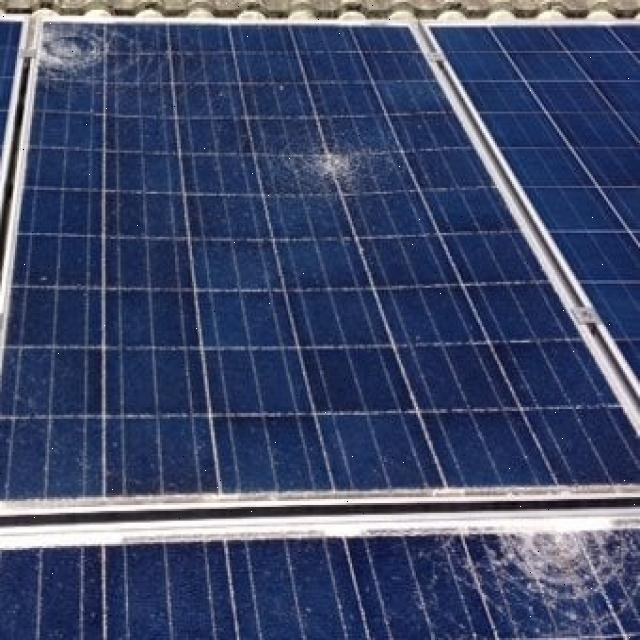Anomaly Solar Panel: (2, 16, 640, 501), (0, 526, 638, 637)
Normal Solar Panel: (425, 23, 640, 384)
Structural Damage: (460, 527, 632, 604), (30, 15, 114, 81), (283, 128, 372, 188)
